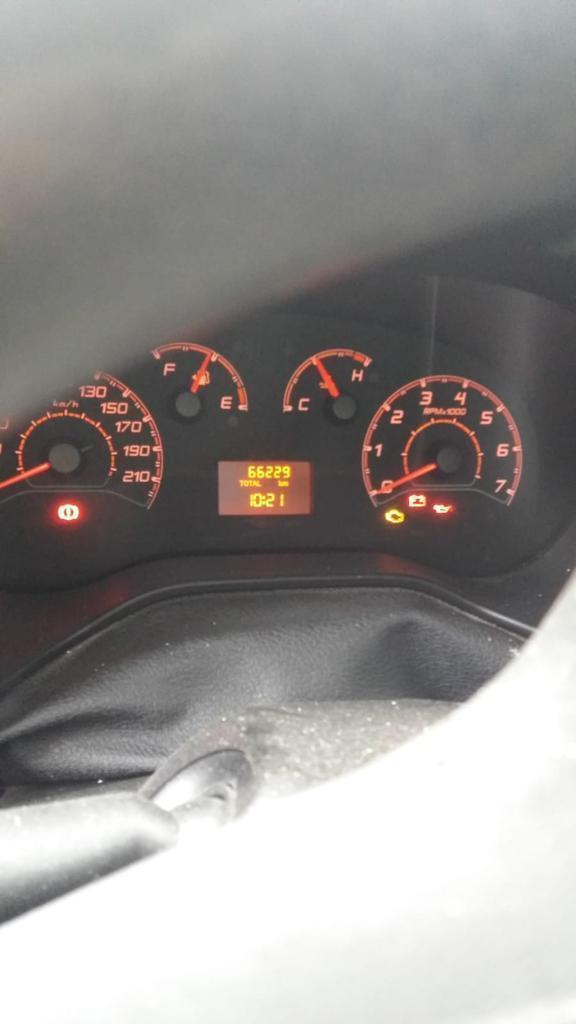0: (253, 493, 262, 506)
1: (279, 493, 284, 506), (249, 493, 253, 506)
2: (265, 492, 275, 506), (265, 465, 273, 478), (273, 465, 281, 478)
6: (247, 465, 255, 477), (256, 466, 264, 478)
9: (281, 465, 290, 478)
X: (238, 479, 244, 486), (277, 480, 283, 486), (243, 479, 248, 486), (256, 479, 261, 486), (248, 479, 252, 486), (252, 479, 256, 486), (262, 495, 265, 504), (283, 482, 288, 486)
odometer: (216, 457, 313, 517)
